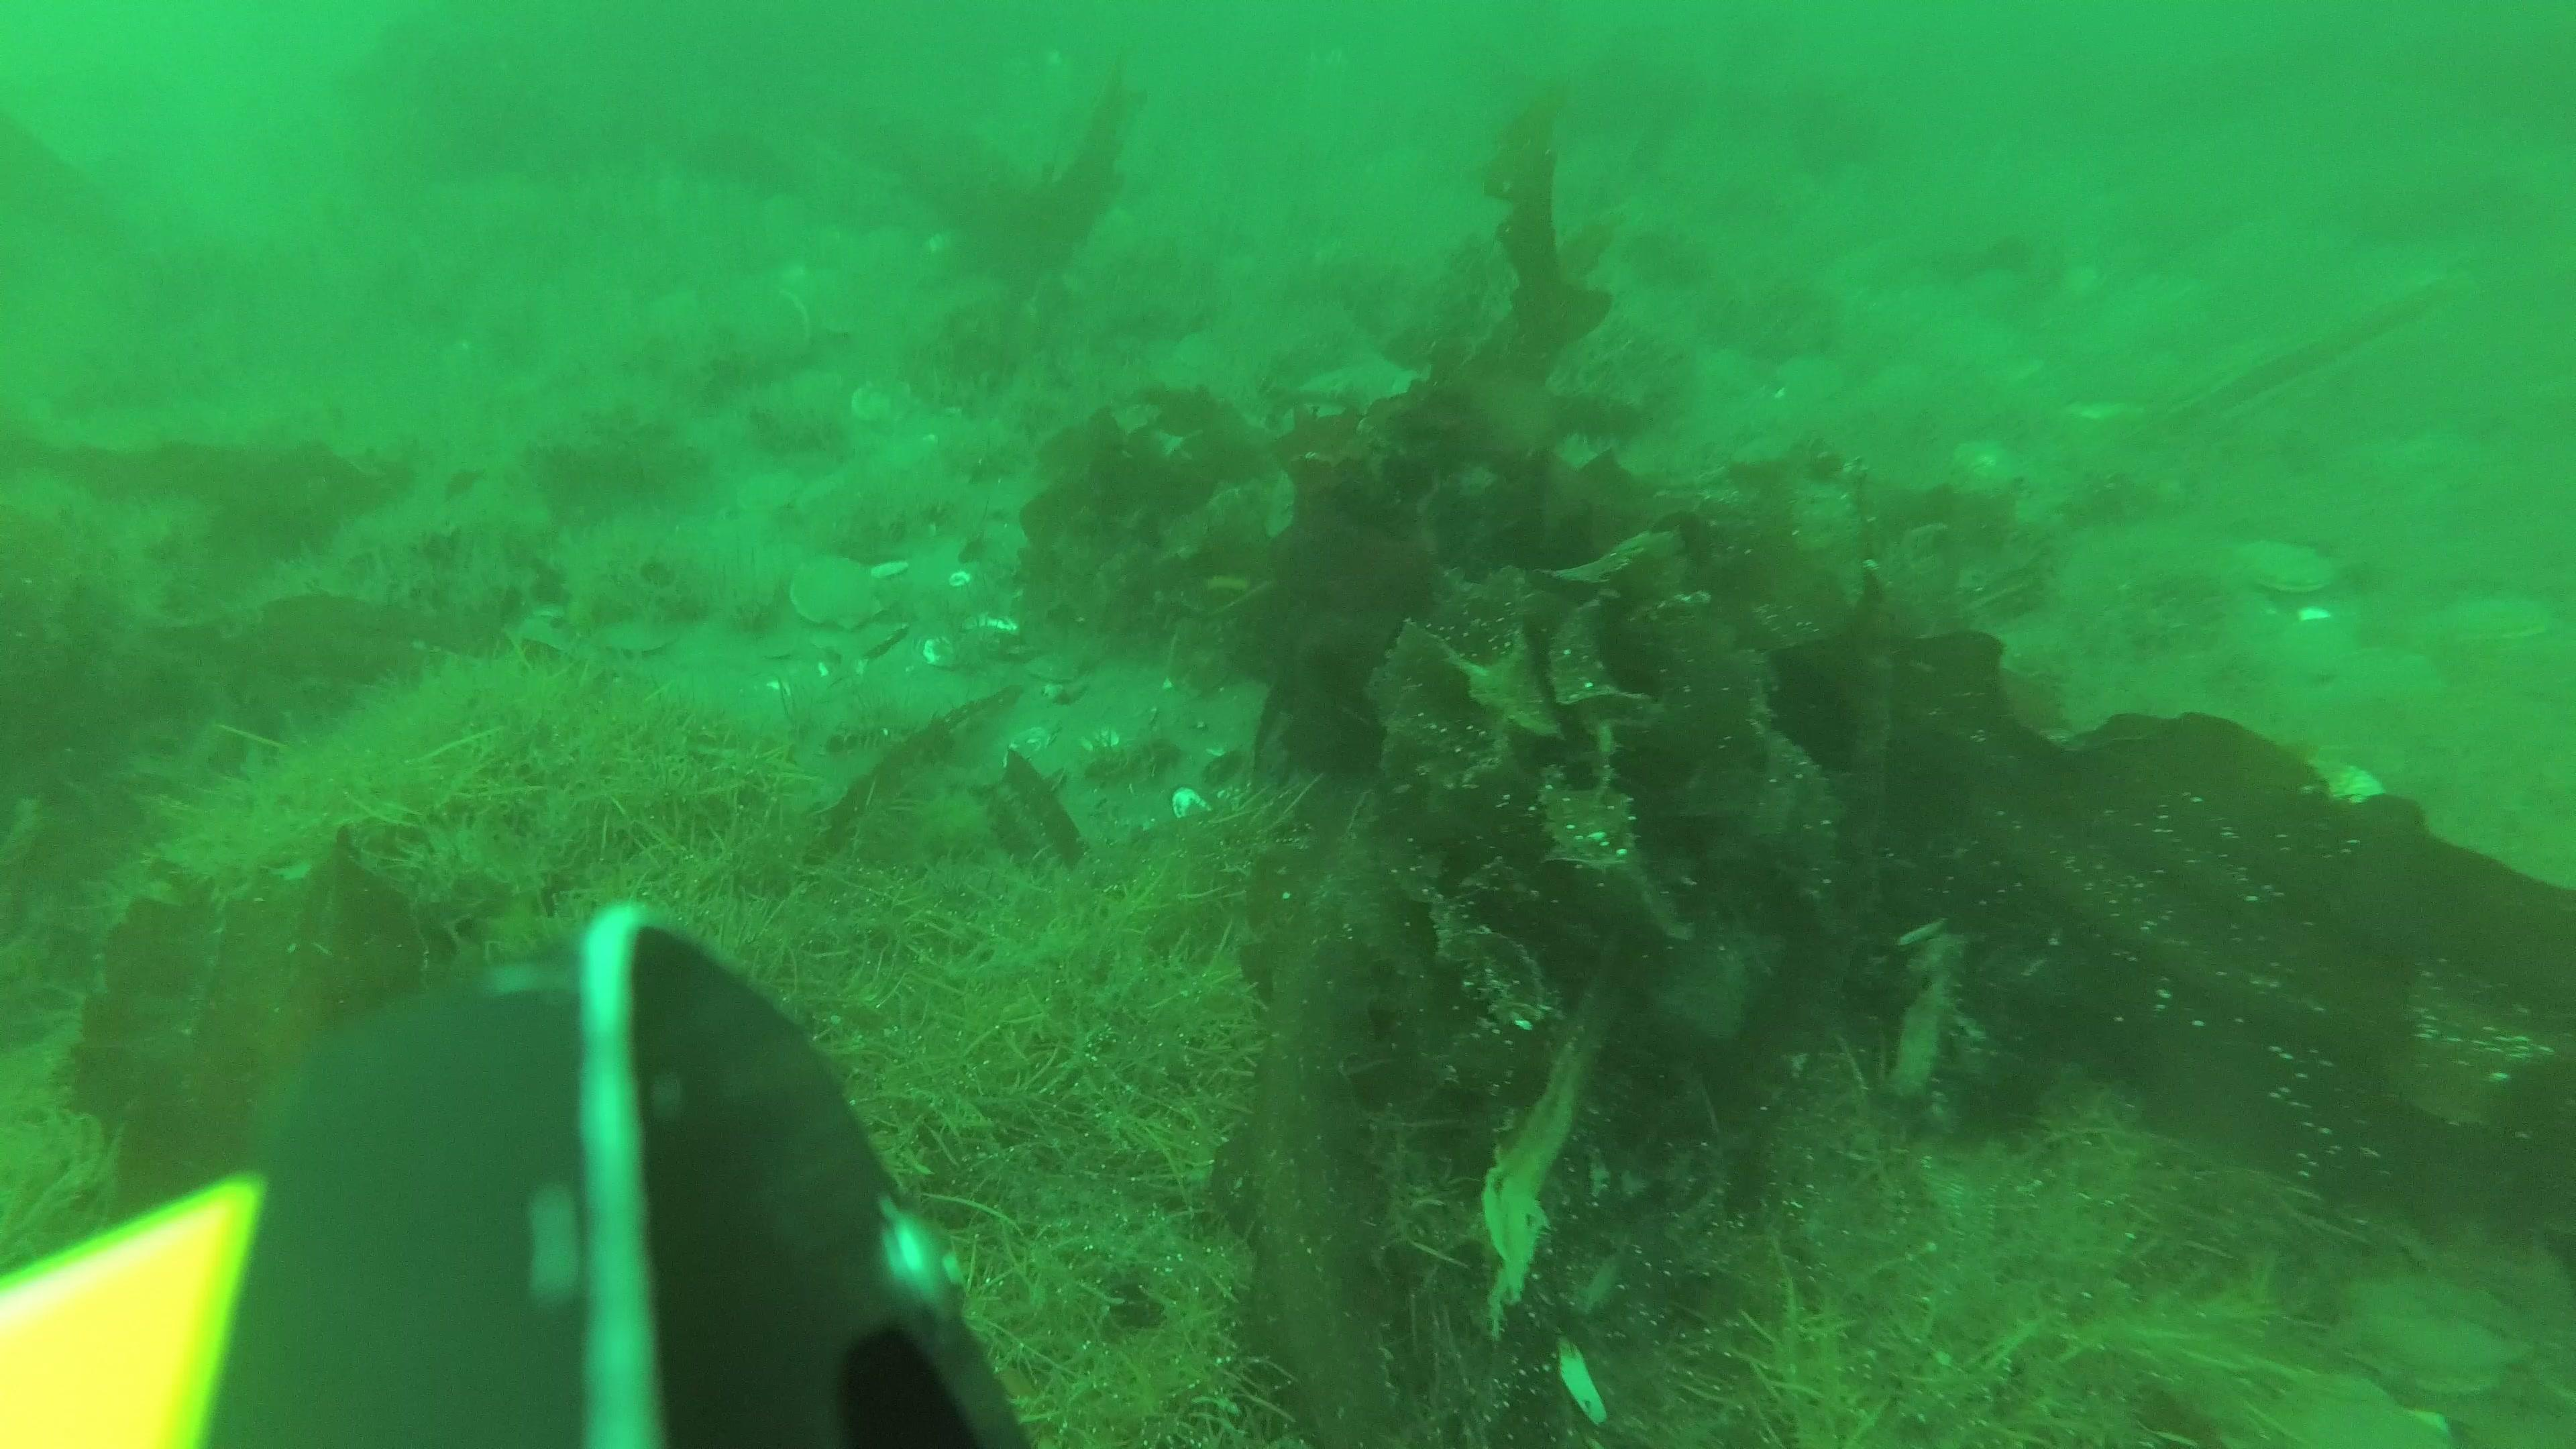scallop: (2334, 1267, 2537, 1401), (2272, 1364, 2452, 1449), (2419, 575, 2562, 653), (784, 547, 890, 633), (2233, 527, 2350, 596), (722, 287, 810, 372), (809, 614, 909, 669), (593, 614, 688, 662), (847, 372, 922, 430), (736, 464, 803, 517)
